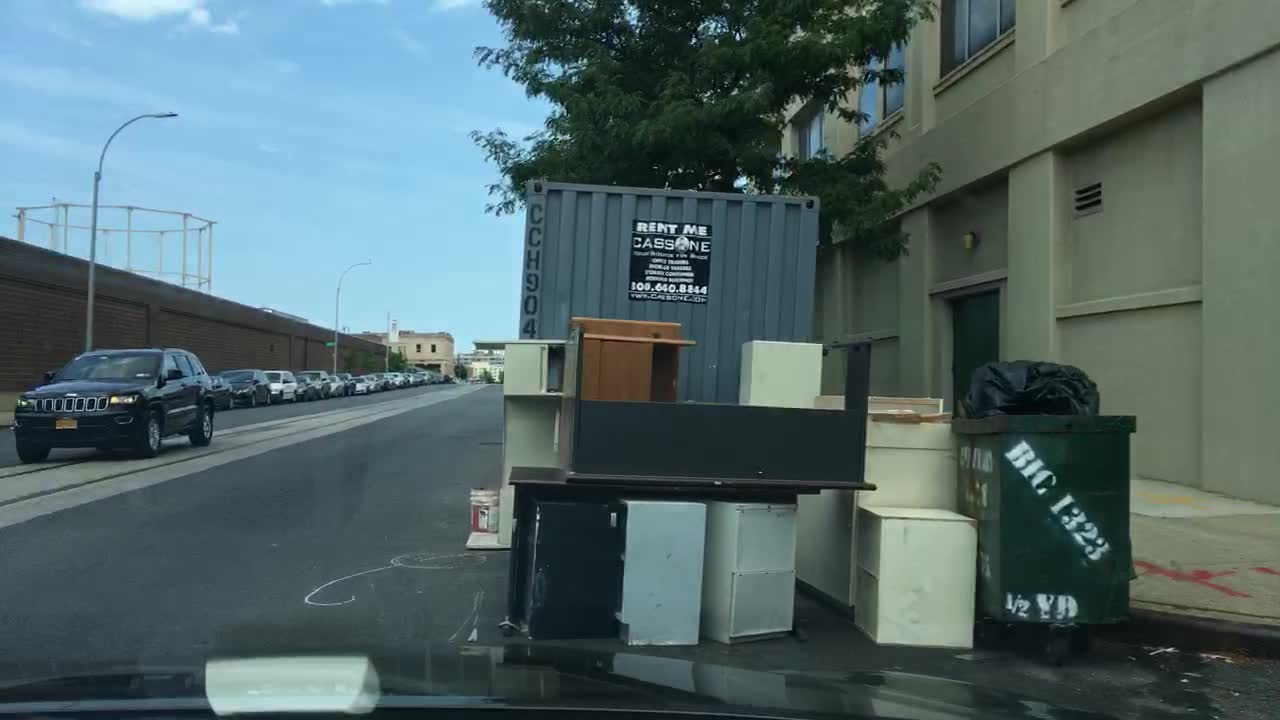car: (11, 346, 213, 464), (218, 369, 274, 407), (263, 370, 299, 401), (300, 370, 333, 395), (208, 374, 233, 407), (292, 377, 319, 400), (337, 373, 356, 393), (324, 376, 345, 392), (352, 377, 371, 391), (385, 370, 401, 386), (364, 376, 380, 390), (374, 373, 388, 386), (420, 370, 430, 382), (401, 374, 412, 384), (432, 373, 443, 382), (410, 373, 420, 382)
traffic sign: (323, 340, 337, 349)
